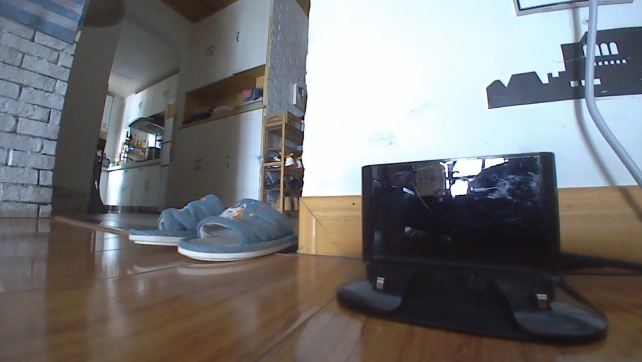charger: (332, 147, 612, 347)
cupboard: (98, 156, 161, 213)
slipper: (178, 195, 300, 265), (125, 192, 228, 248)
wire: (576, 0, 641, 195), (555, 250, 641, 274)
